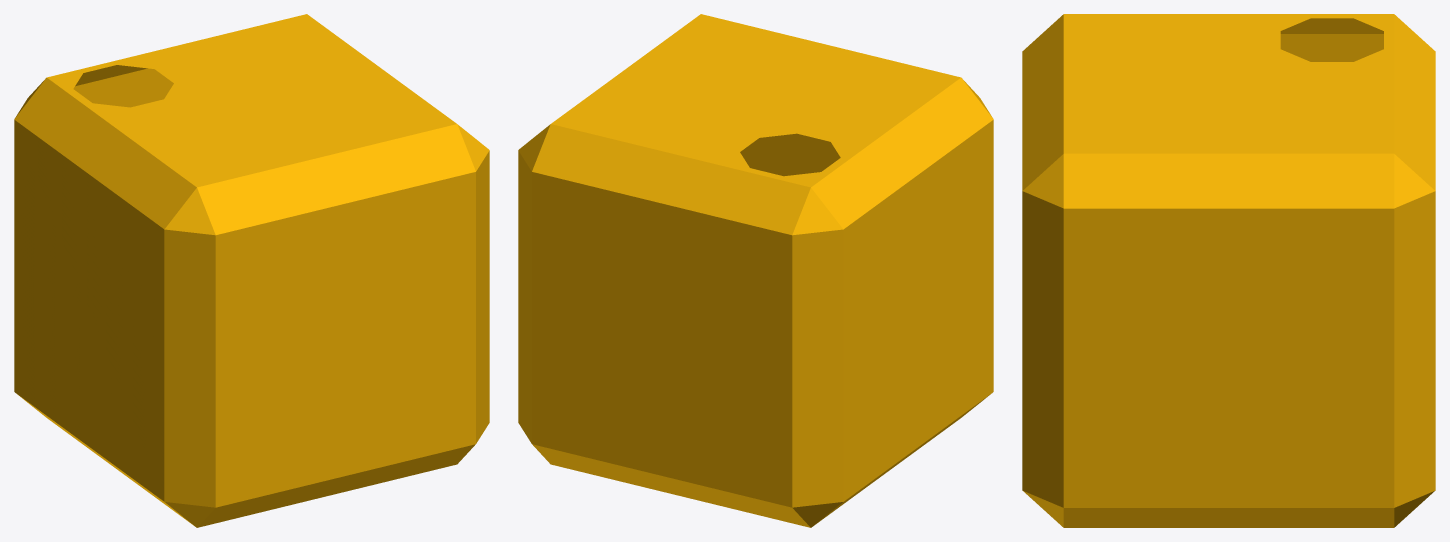
Rendered from fluid_tank_2x2x2.dae.
3 views of the same model, side by side, from view 1: azimuth 30°, elevation 25°; view 2: azimuth 150°, elevation 25°; view 3: azimuth 270°, elevation 25° (orthographic). The views are drawn at different scales.
Visible parts, largest first — view 1: Cube; view 2: Cube; view 3: Cube.
Boxes of the visible parts, box(x1,y1,x2,y2) form: Cube: box(14, 14, 489, 527); Cube: box(518, 14, 993, 527); Cube: box(1022, 14, 1435, 527).
Bounding box in the file's own units: 0.5 × 0.5 × 0.5.
